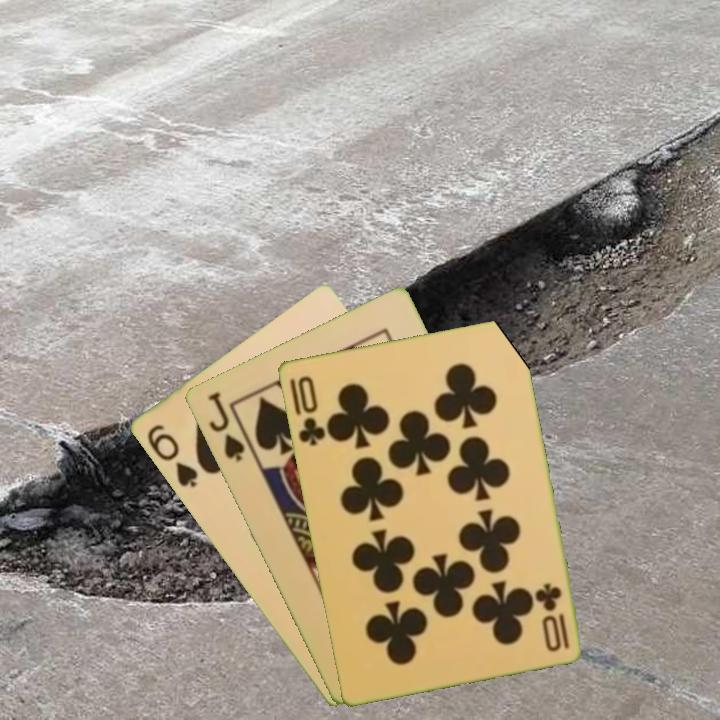10c: (533, 579, 572, 652), (294, 372, 328, 449)
6s: (143, 420, 200, 490)
Js: (204, 388, 248, 465)
